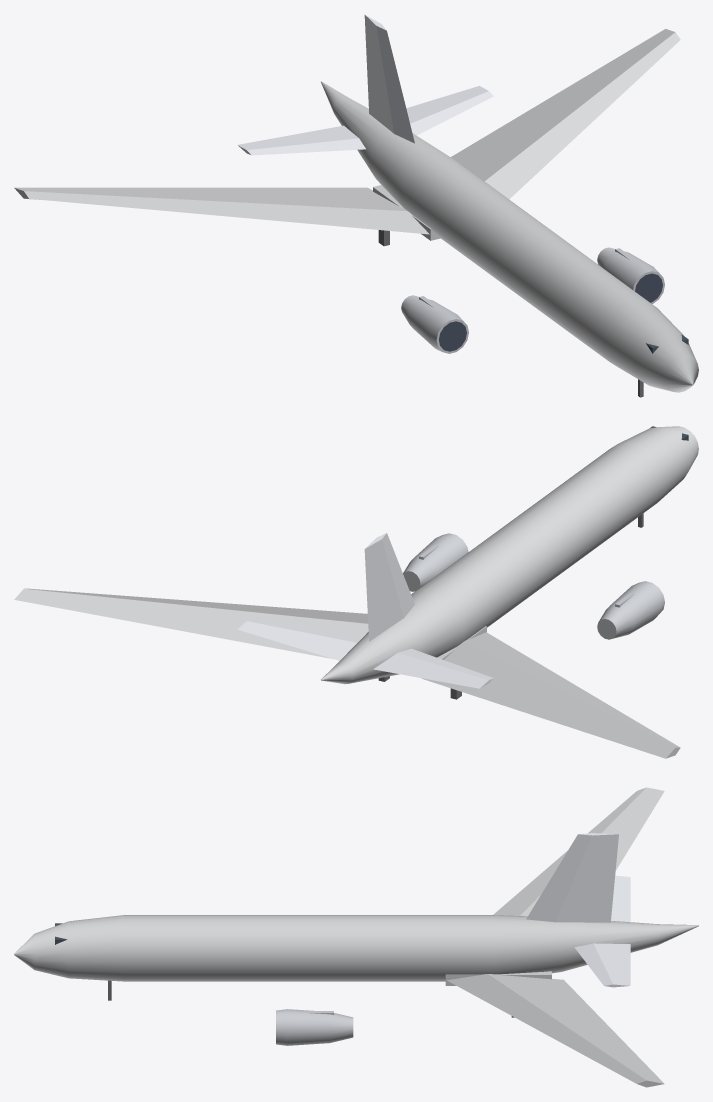
Rendered from widebody.glb.
3 renders of one model, top to bottom at view 1: azimuth 30°, elevation 25°; view 2: azimuth 150°, elevation 25°; view 3: azimuth 270°, elevation 25°, orthographic. The views are drawn at different scales.
Parts seen in each view (by area): view 1: aircraft; view 2: aircraft; view 3: aircraft.
Part boxes in pixels (bbox=[...]): aircraft: bbox=[14, 14, 698, 397]; aircraft: bbox=[14, 426, 698, 758]; aircraft: bbox=[14, 787, 698, 1087].
Bounding box in the file's own units: 64.49 × 17.01 × 63.7.
